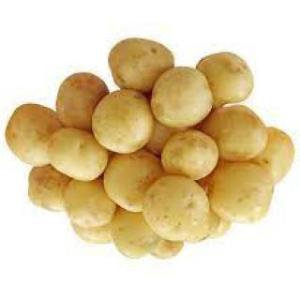potato: (210, 157, 272, 222), (4, 103, 62, 168), (150, 68, 212, 128), (146, 176, 206, 236), (90, 91, 150, 151), (106, 151, 162, 211), (47, 129, 109, 182), (204, 108, 264, 162), (112, 39, 174, 91), (56, 74, 108, 130), (62, 179, 118, 230), (198, 52, 252, 104), (110, 202, 156, 260), (158, 133, 215, 175), (258, 129, 296, 185), (28, 165, 70, 215), (72, 217, 112, 247), (149, 238, 183, 262), (206, 215, 228, 239)
